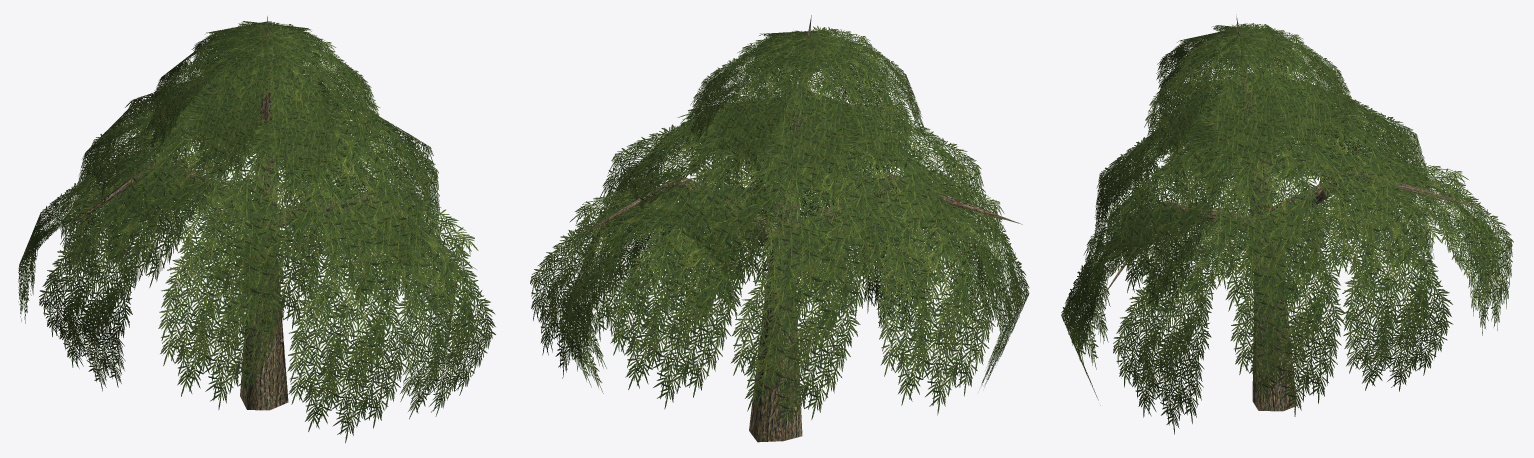
File: willowTree.dae
The picture shows the model from 3 angles, left to right: view 1: azimuth 30°, elevation 25°; view 2: azimuth 150°, elevation 25°; view 3: azimuth 270°, elevation 25°; orthographic projection. The views are drawn at different scales.
Visible parts, largest first — view 1: Willow; view 2: Willow; view 3: Willow.
Boxes of the visible parts, bbox=[...] form: Willow: bbox=[18, 16, 495, 443]; Willow: bbox=[530, 15, 1029, 442]; Willow: bbox=[1061, 14, 1513, 434].
Bounding box in the file's own units: 1.14 × 1.12 × 1.22.
Materials: 1 (1 with a texture image).
